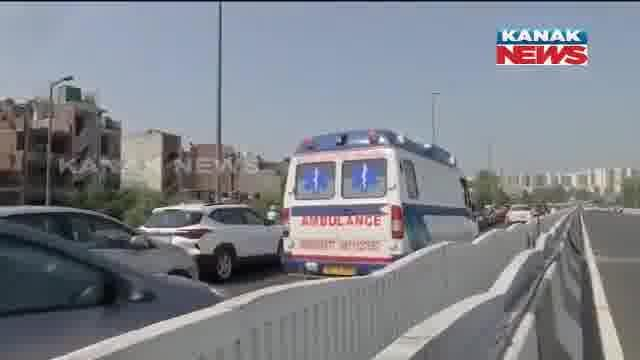AMBULANCE: (278, 122, 487, 287)
